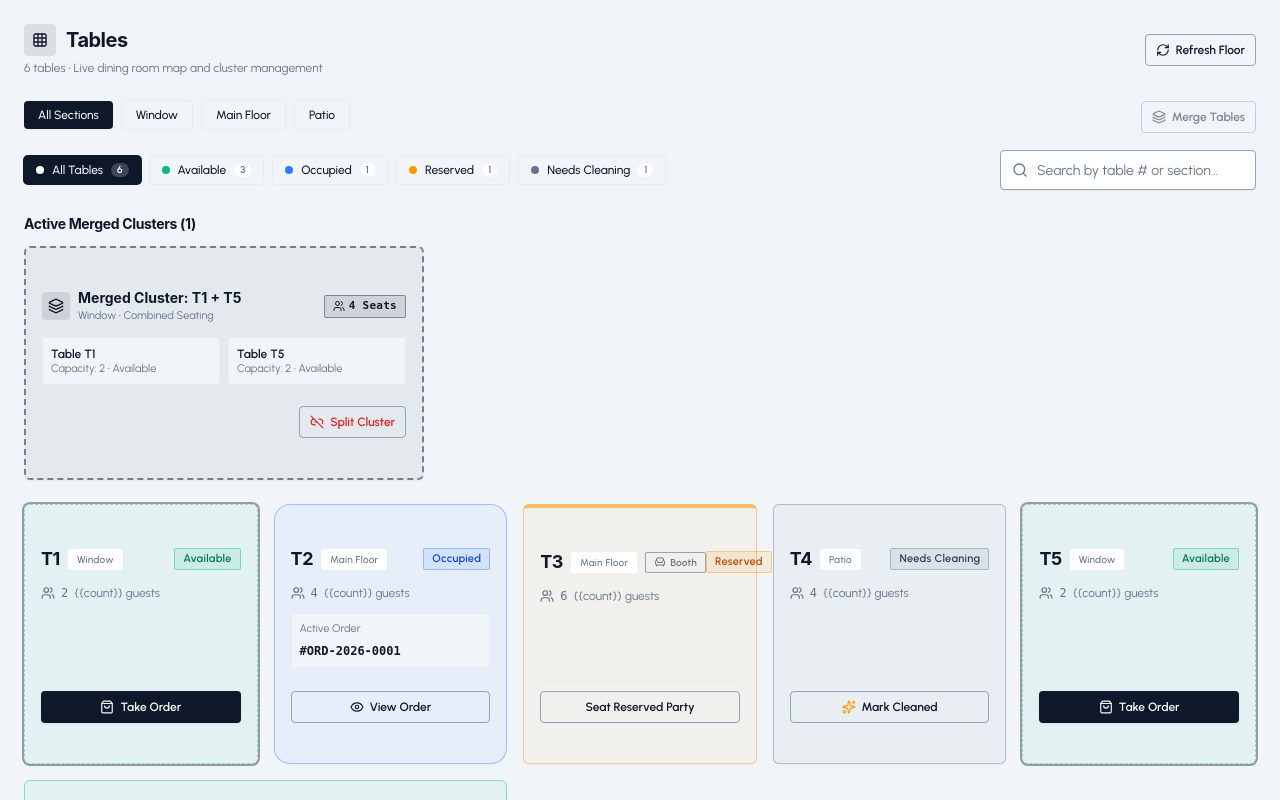
Test: TablesPage › filters tables by section click
Check: the heading "T1" is shown, box [41, 545, 60, 573]
Click the tab "Window" at (157, 115), box [121, 100, 193, 130]
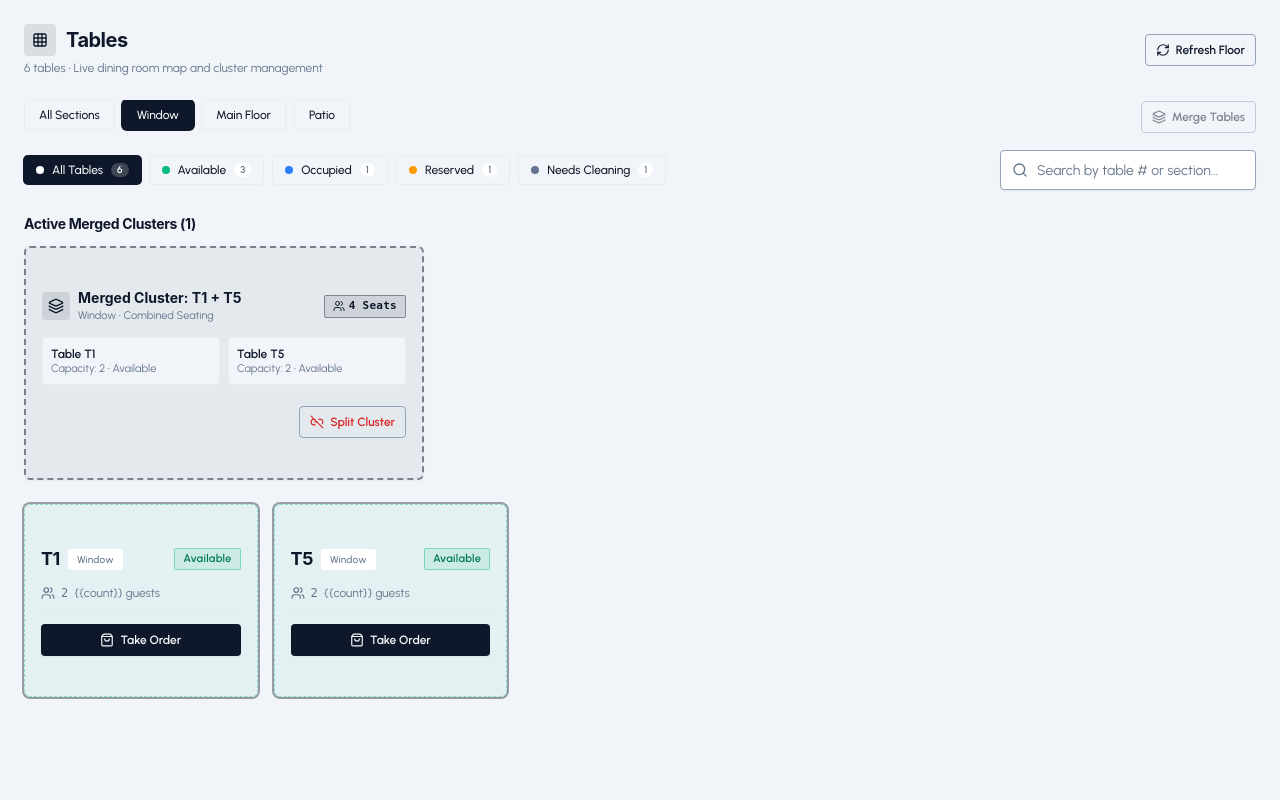
Check: the heading "T1" is shown, box [41, 545, 60, 573]
Check: the heading "T2" is gone
